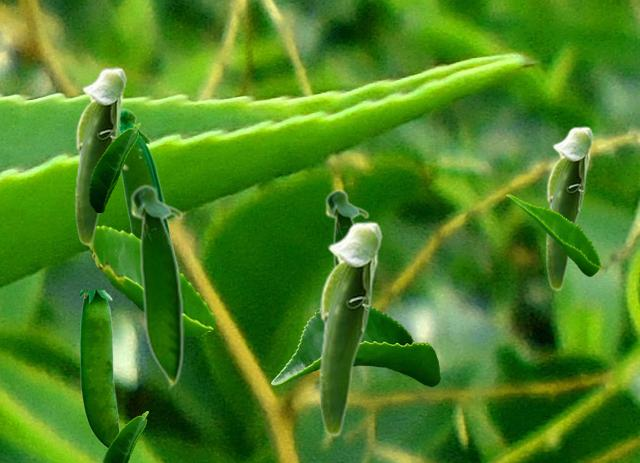pea: (318, 221, 382, 436), (129, 183, 183, 389), (74, 67, 126, 245), (545, 126, 593, 290), (119, 107, 170, 236), (80, 290, 120, 448), (324, 188, 369, 264)
